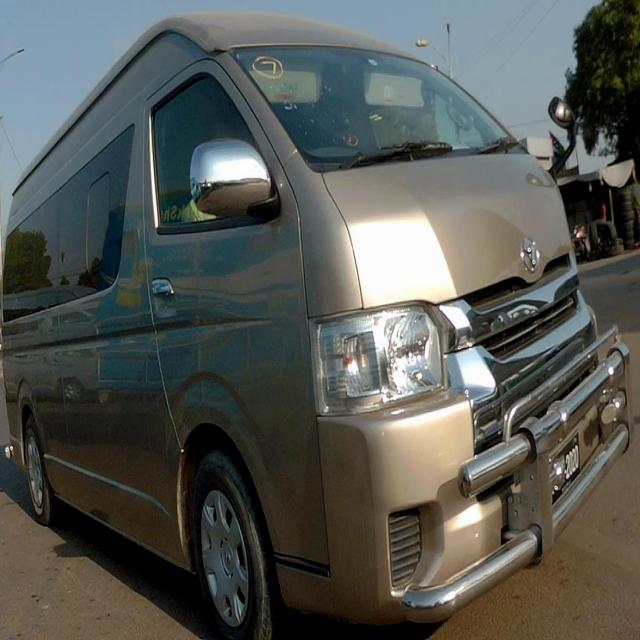Van: (0, 12, 633, 640)
